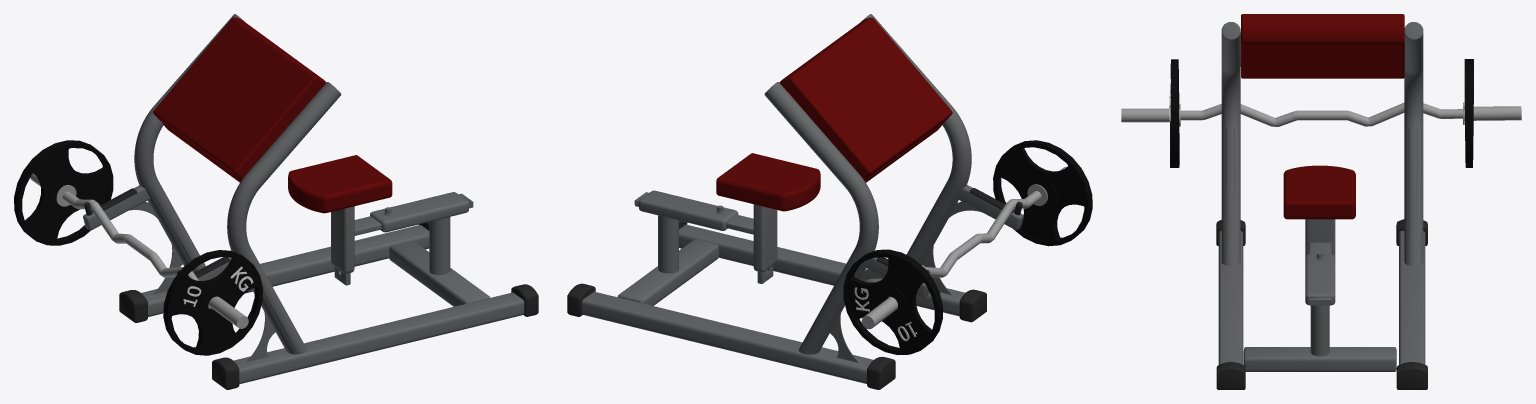
The model's file is MSH_Brazo.FBX.
3 renders of one model, left to right at view 1: azimuth 30°, elevation 25°; view 2: azimuth 150°, elevation 25°; view 3: azimuth 270°, elevation 25°, orthographic.
Parts seen in each view (by area): view 1: MSH_Brazo; view 2: MSH_Brazo; view 3: MSH_Brazo.
Part boxes in pixels (x1,y1,x2,y2): MSH_Brazo: (14, 14, 538, 389); MSH_Brazo: (567, 14, 1092, 389); MSH_Brazo: (1121, 14, 1521, 389).
Size of the model in its own units: 1.39 by 0.9421 by 1.24.
